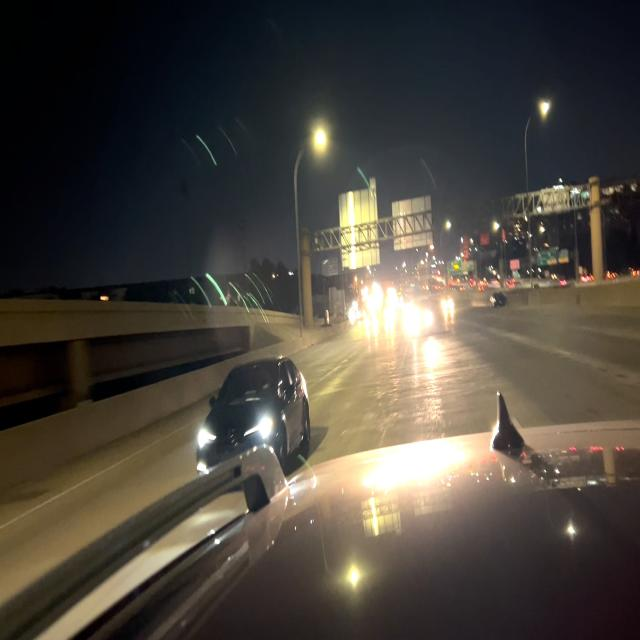back-of-sign: (338, 178, 380, 272), (391, 194, 434, 256), (540, 184, 572, 215)
